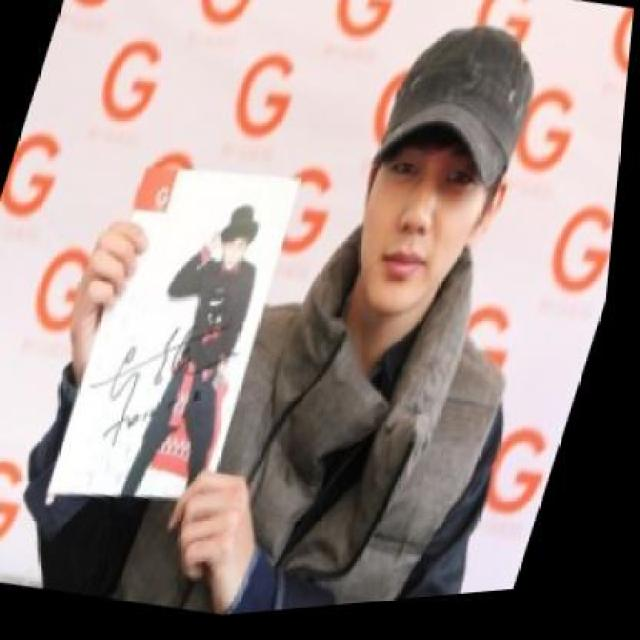hat: (367, 8, 562, 212)
